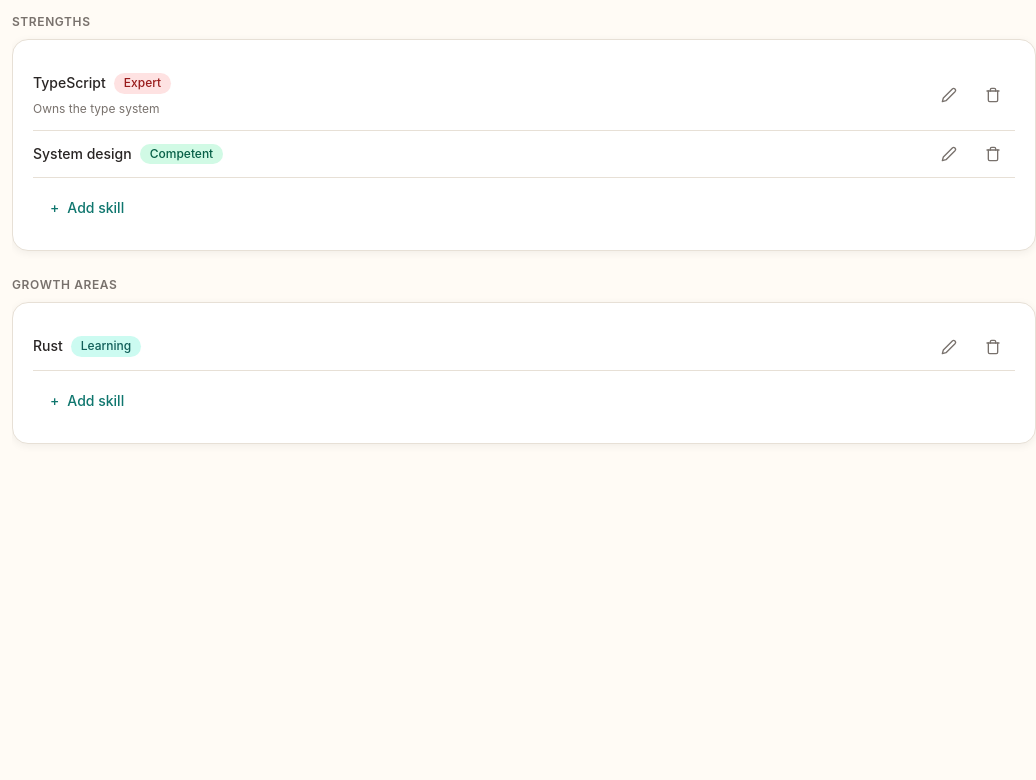
Test case: SkillsTab › shows the data layer’s validation message next to the field and keeps the form open
This screenshot has width=1036, height=780.
Click the button with aria-label "Add skill to Strengths" at (87, 208), box [33,186,141,230]
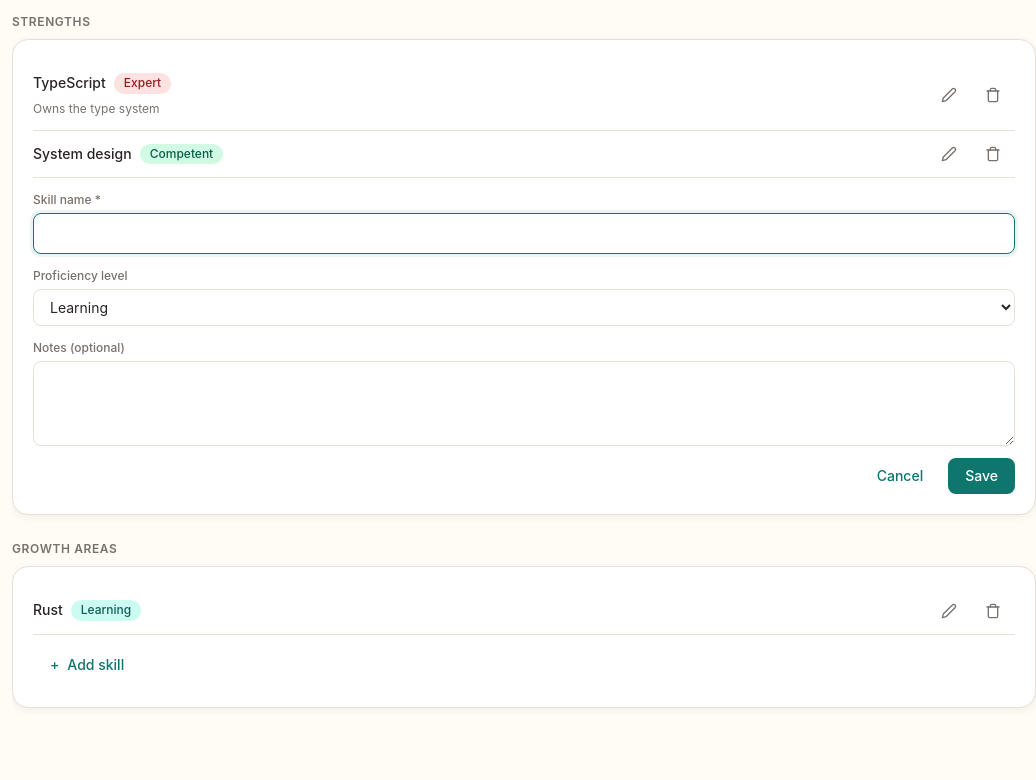
Type "TypeScript" into the field labelled "Skill name *" at (524, 234), box [33,213,1015,254]
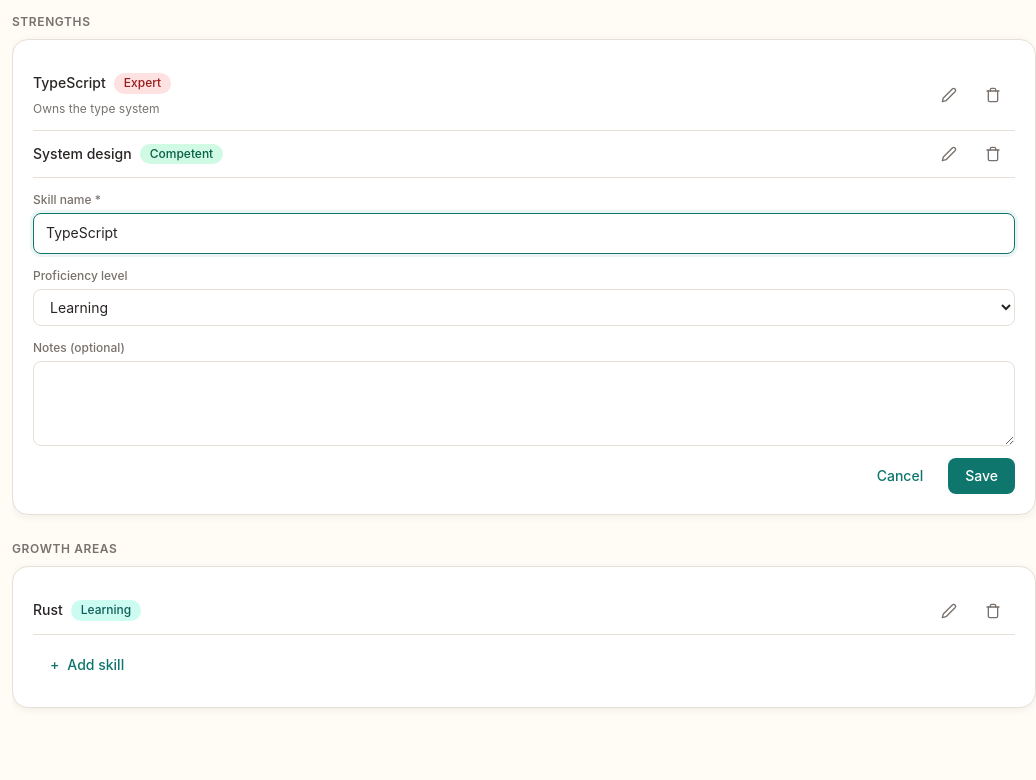
Click the button "Save" at (982, 476), box [948,458,1015,494]
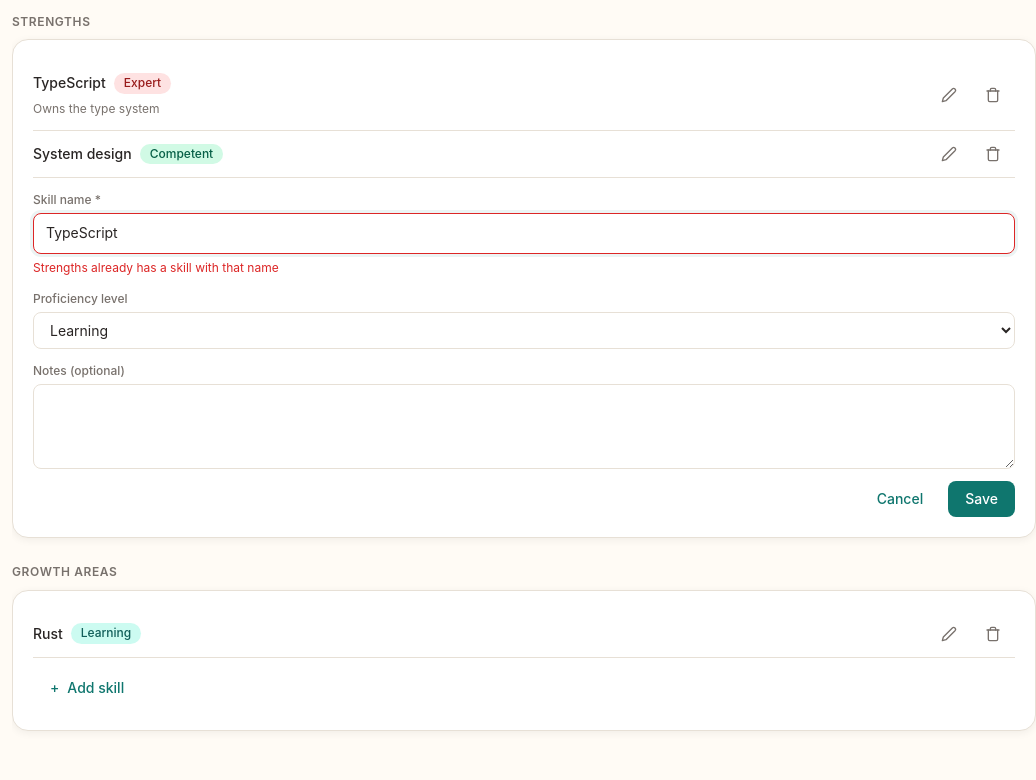
expect the text "Strengths already has a skill with that name" is shown: met, box [33,260,279,275]
